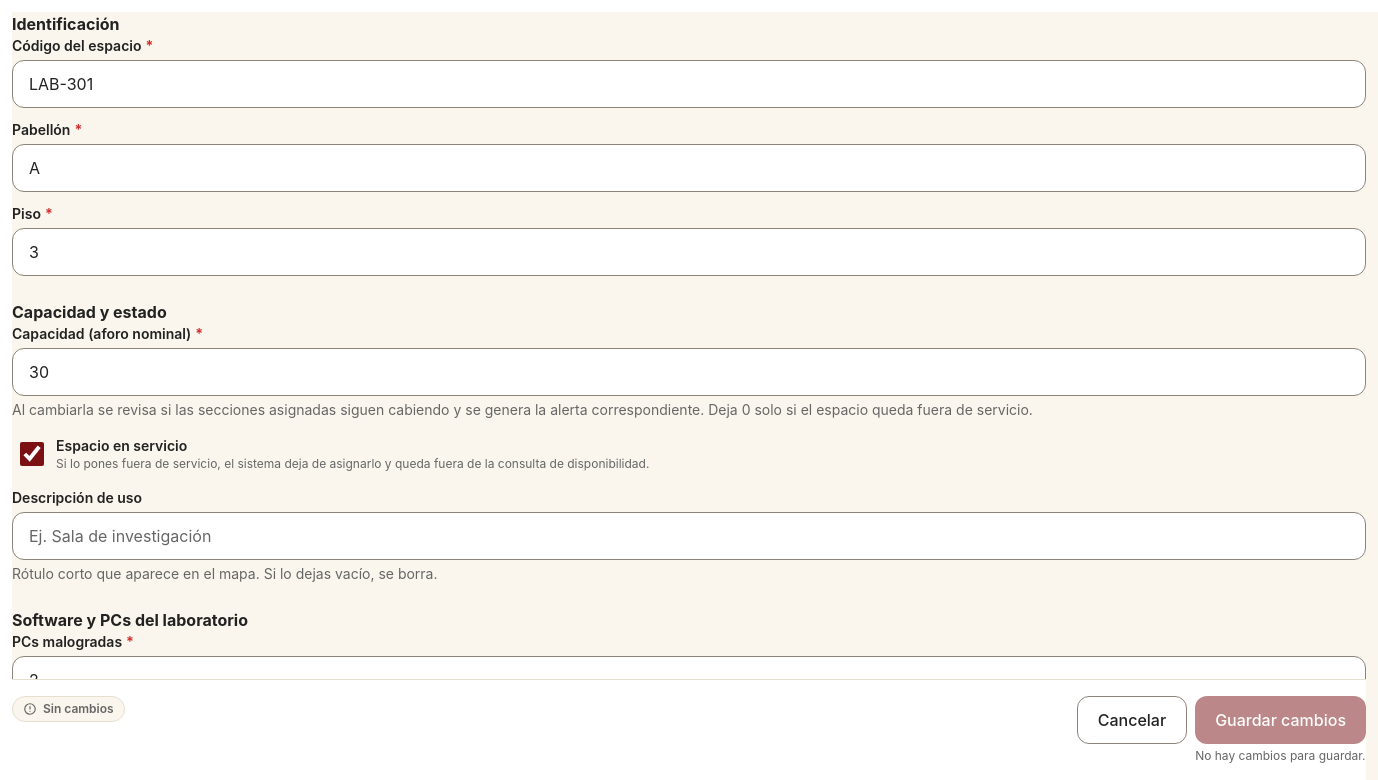
Scenario: Formulario de espacios (Issue 4.15) › bloquea un aforo de 0 mientras el espacio siga habilitado
Replace the text in the number field labelled "Capacidad (aforo nominal) *" with "0" at point(689, 372), box [12,348,1366,396]
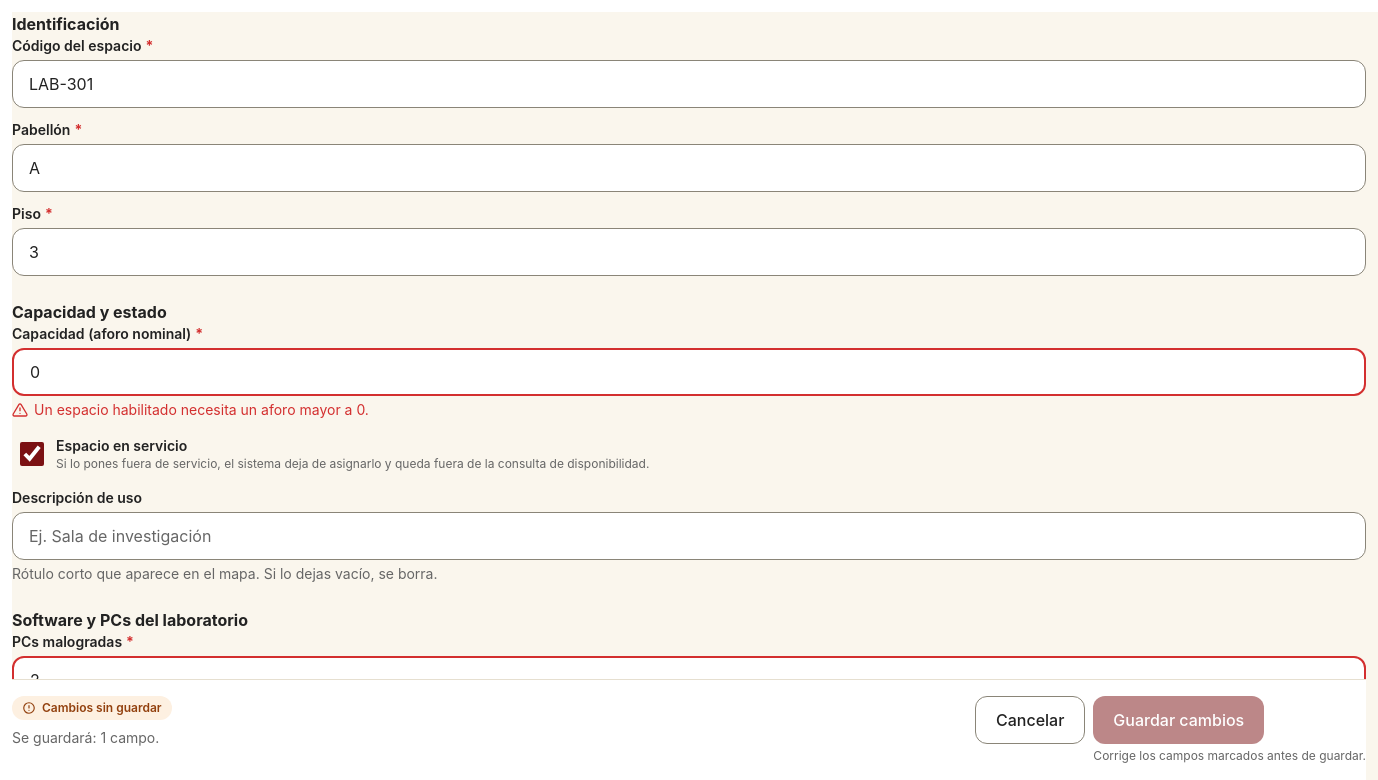
Expected: the button "Guardar cambios" is disabled, [1093,696,1264,744]
Now the text "Un espacio habilitado necesita un aforo mayor a 0." is shown, box [34,400,369,420]
